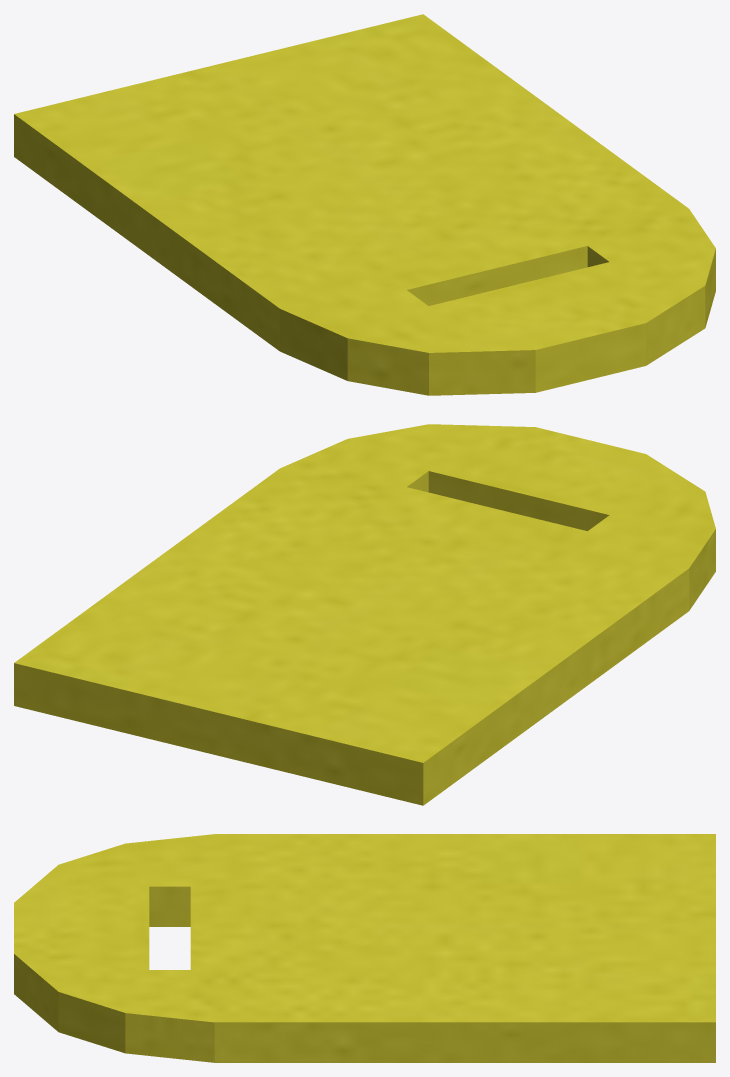
File: DivingBoard01.obj
3 renders of one model, top to bottom at view 1: azimuth 30°, elevation 25°; view 2: azimuth 150°, elevation 25°; view 3: azimuth 270°, elevation 25°, orthographic. The views are drawn at different scales.
Visible parts, largest first — view 1: DivingBoard01; view 2: DivingBoard01; view 3: DivingBoard01.
Boxes of the visible parts, x1,y1,x2,y2 form: DivingBoard01: (14, 14, 715, 395); DivingBoard01: (14, 424, 715, 805); DivingBoard01: (14, 834, 715, 1062).
Size of the model in its own units: 1 by 0.1 by 1.58.
